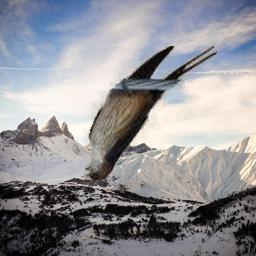Swallow: (84, 46, 221, 180)
